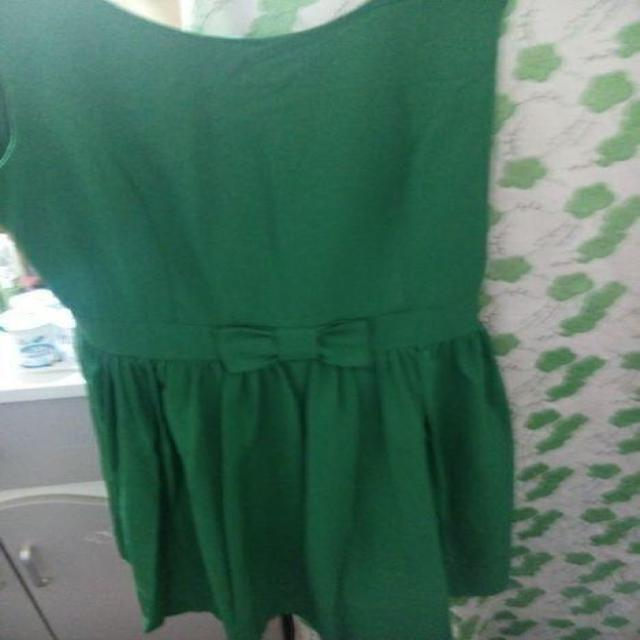short-sleeve-dress: (45, 15, 552, 630)
